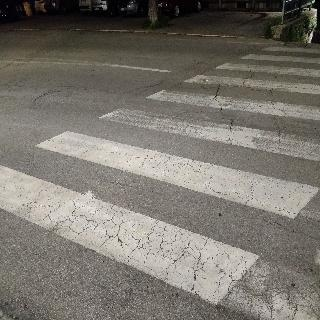road_crosswalk: (12, 45, 316, 310)
